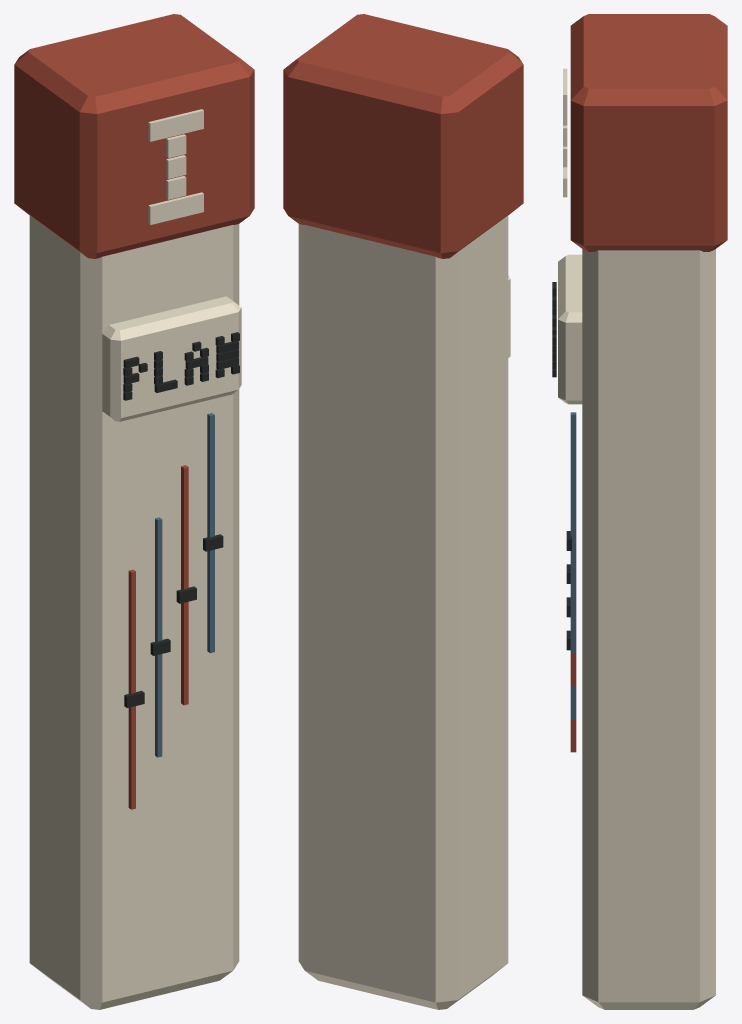
Rendered from info-column.glb.
3 renders of one model, left to right at view 1: azimuth 30°, elevation 25°; view 2: azimuth 150°, elevation 25°; view 3: azimuth 270°, elevation 25°, orthographic.
Parts seen in each view (by area): view 1: info-column; view 2: info-column; view 3: info-column.
Boxes of the visible parts, left/top/right/bottom form: info-column: left=14, top=14, right=254, bottom=1009; info-column: left=283, top=14, right=523, bottom=1009; info-column: left=552, top=14, right=727, bottom=1009.
Bounding box in the file's own units: 0.44 × 2.21 × 0.3795.
